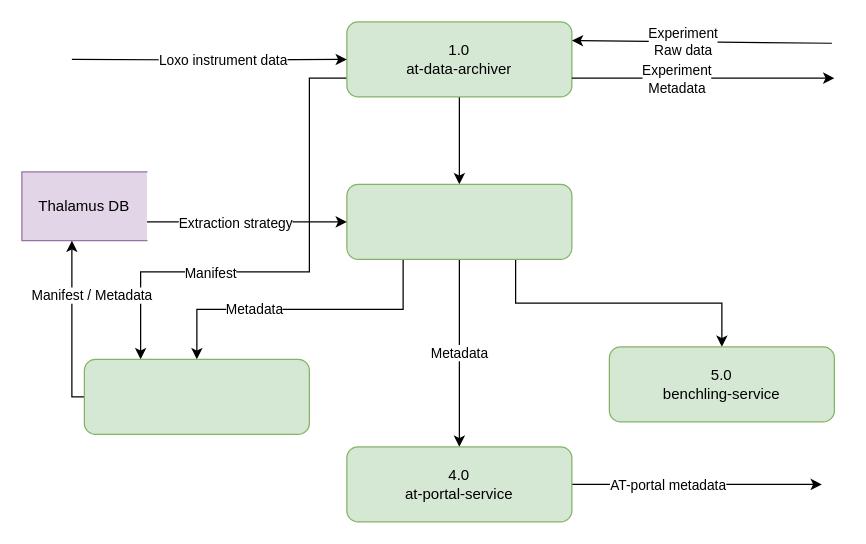
Image size: 866x544. Some labels were removed from this diagram. The shapes that lost their labels are listed below. From the top down, each one's centre as x and y in pixels, then its label:
(x=459, y=221): 2.0 at-data-processor
(x=196, y=396): 3.0 at-data-server
